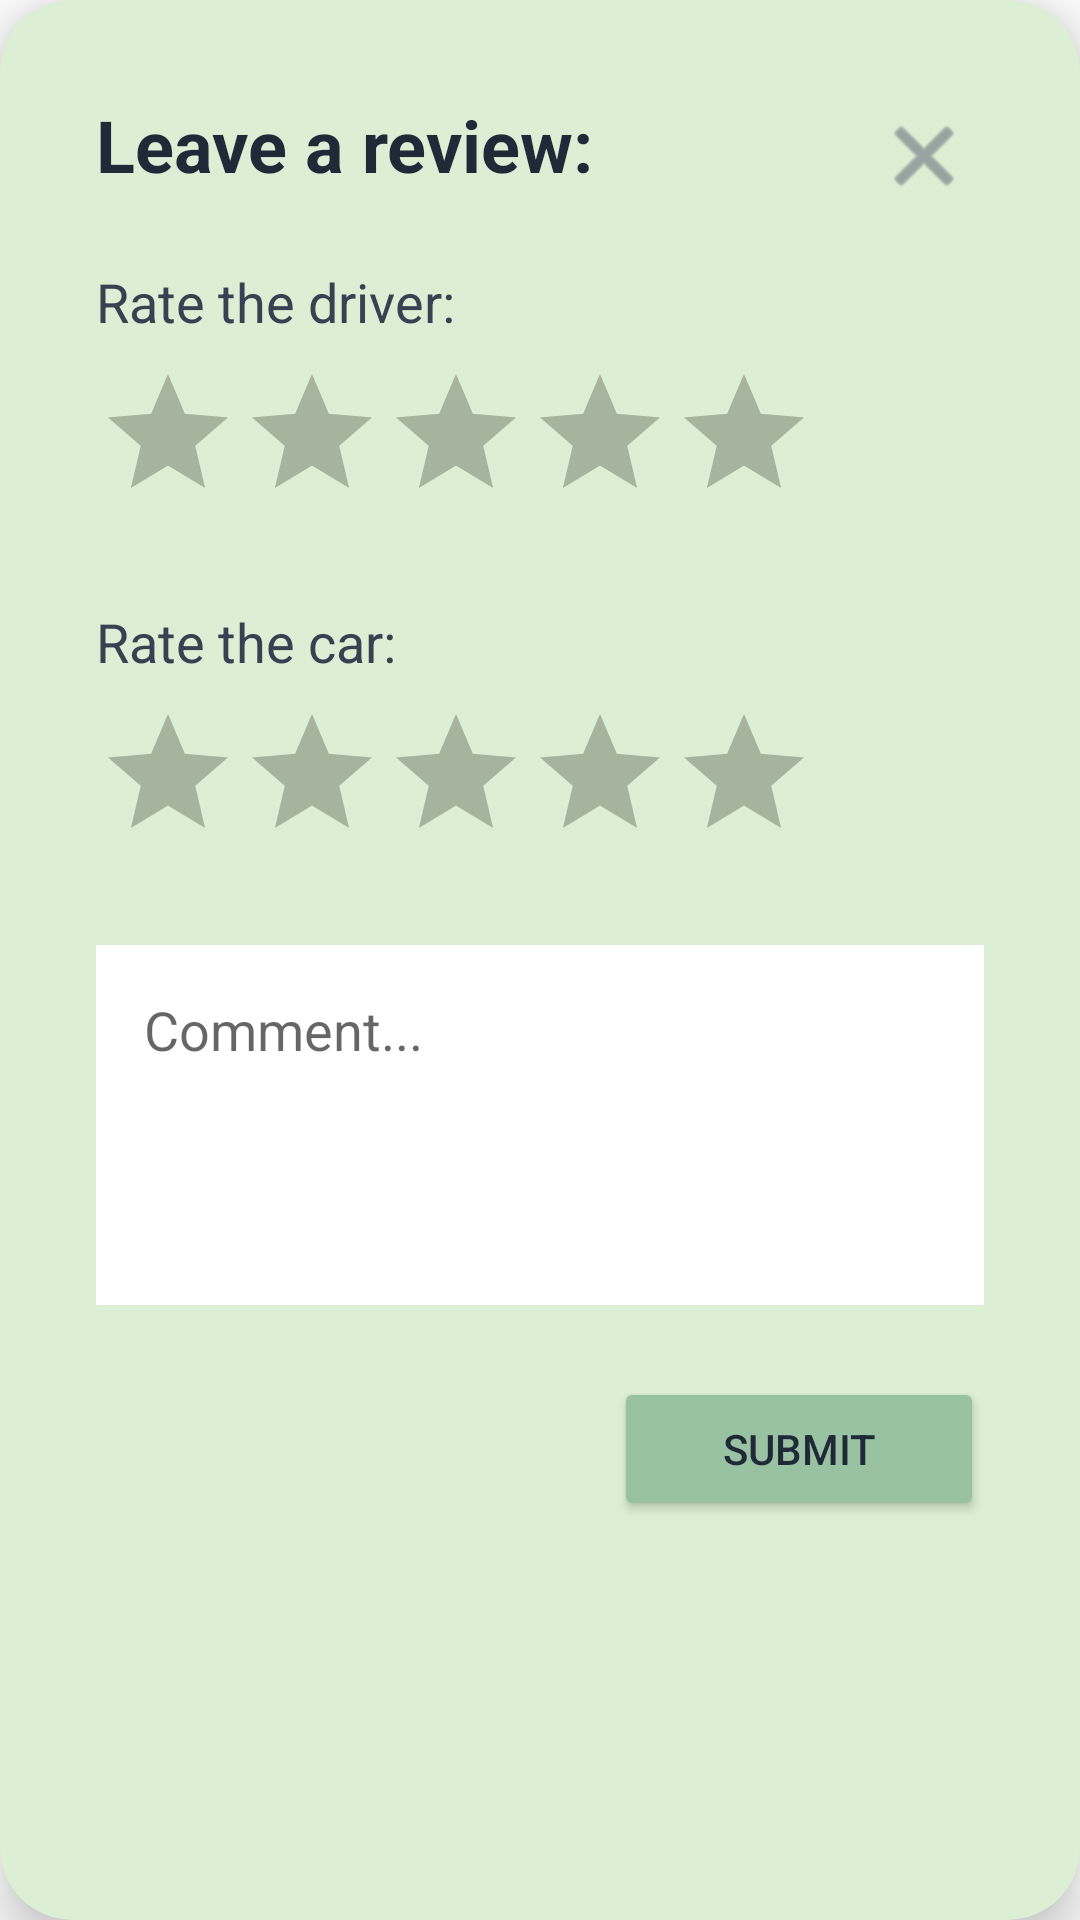

Where icons sit on this 1080px x 1920px app screen, as (x1, y1, x2, y2):
Close: (894, 126, 954, 186)
